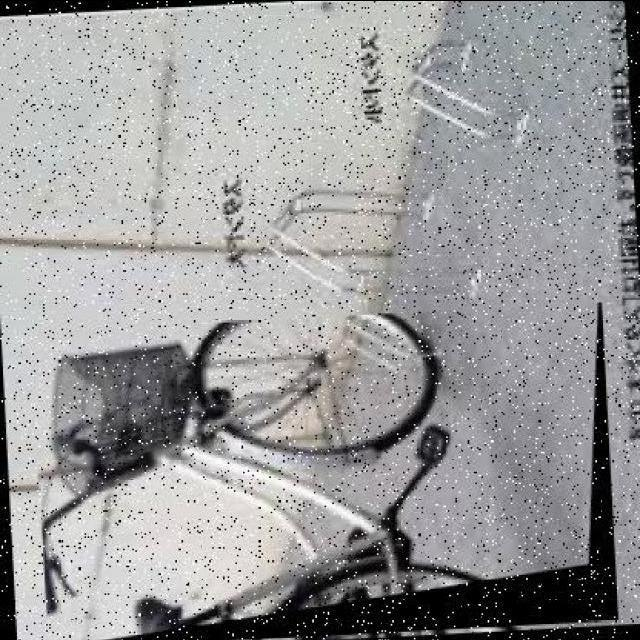bicycle: (31, 303, 622, 640)
